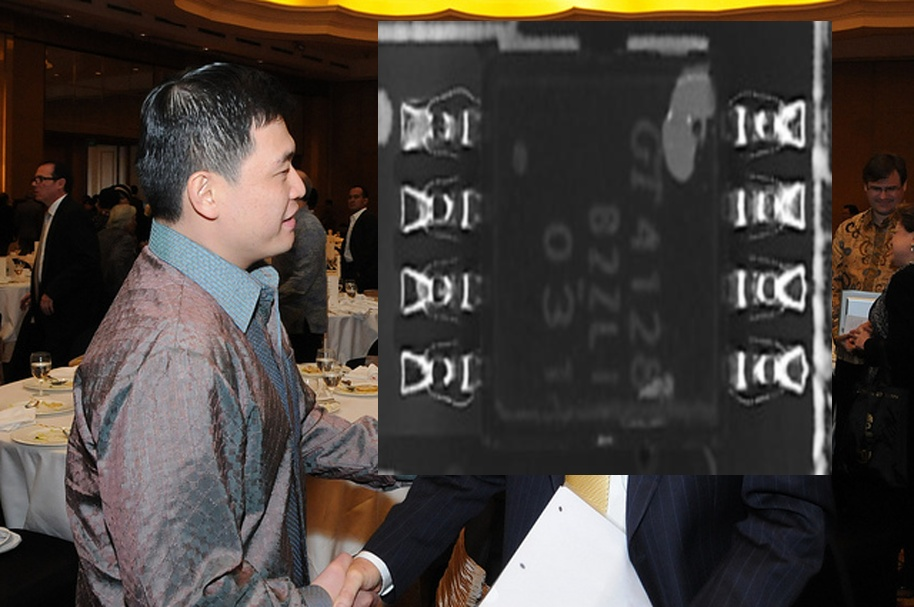PAD: (702, 81, 818, 433), (382, 82, 498, 425)
wineglass: (29, 352, 51, 398), (315, 347, 335, 397), (319, 364, 342, 401), (345, 282, 355, 308)
